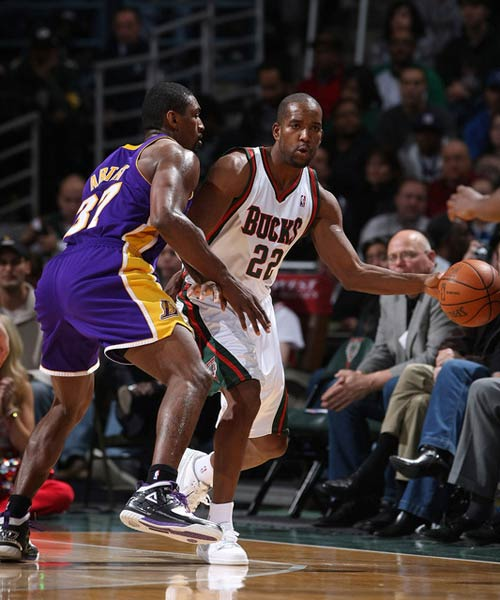ball: (438, 259, 500, 328)
